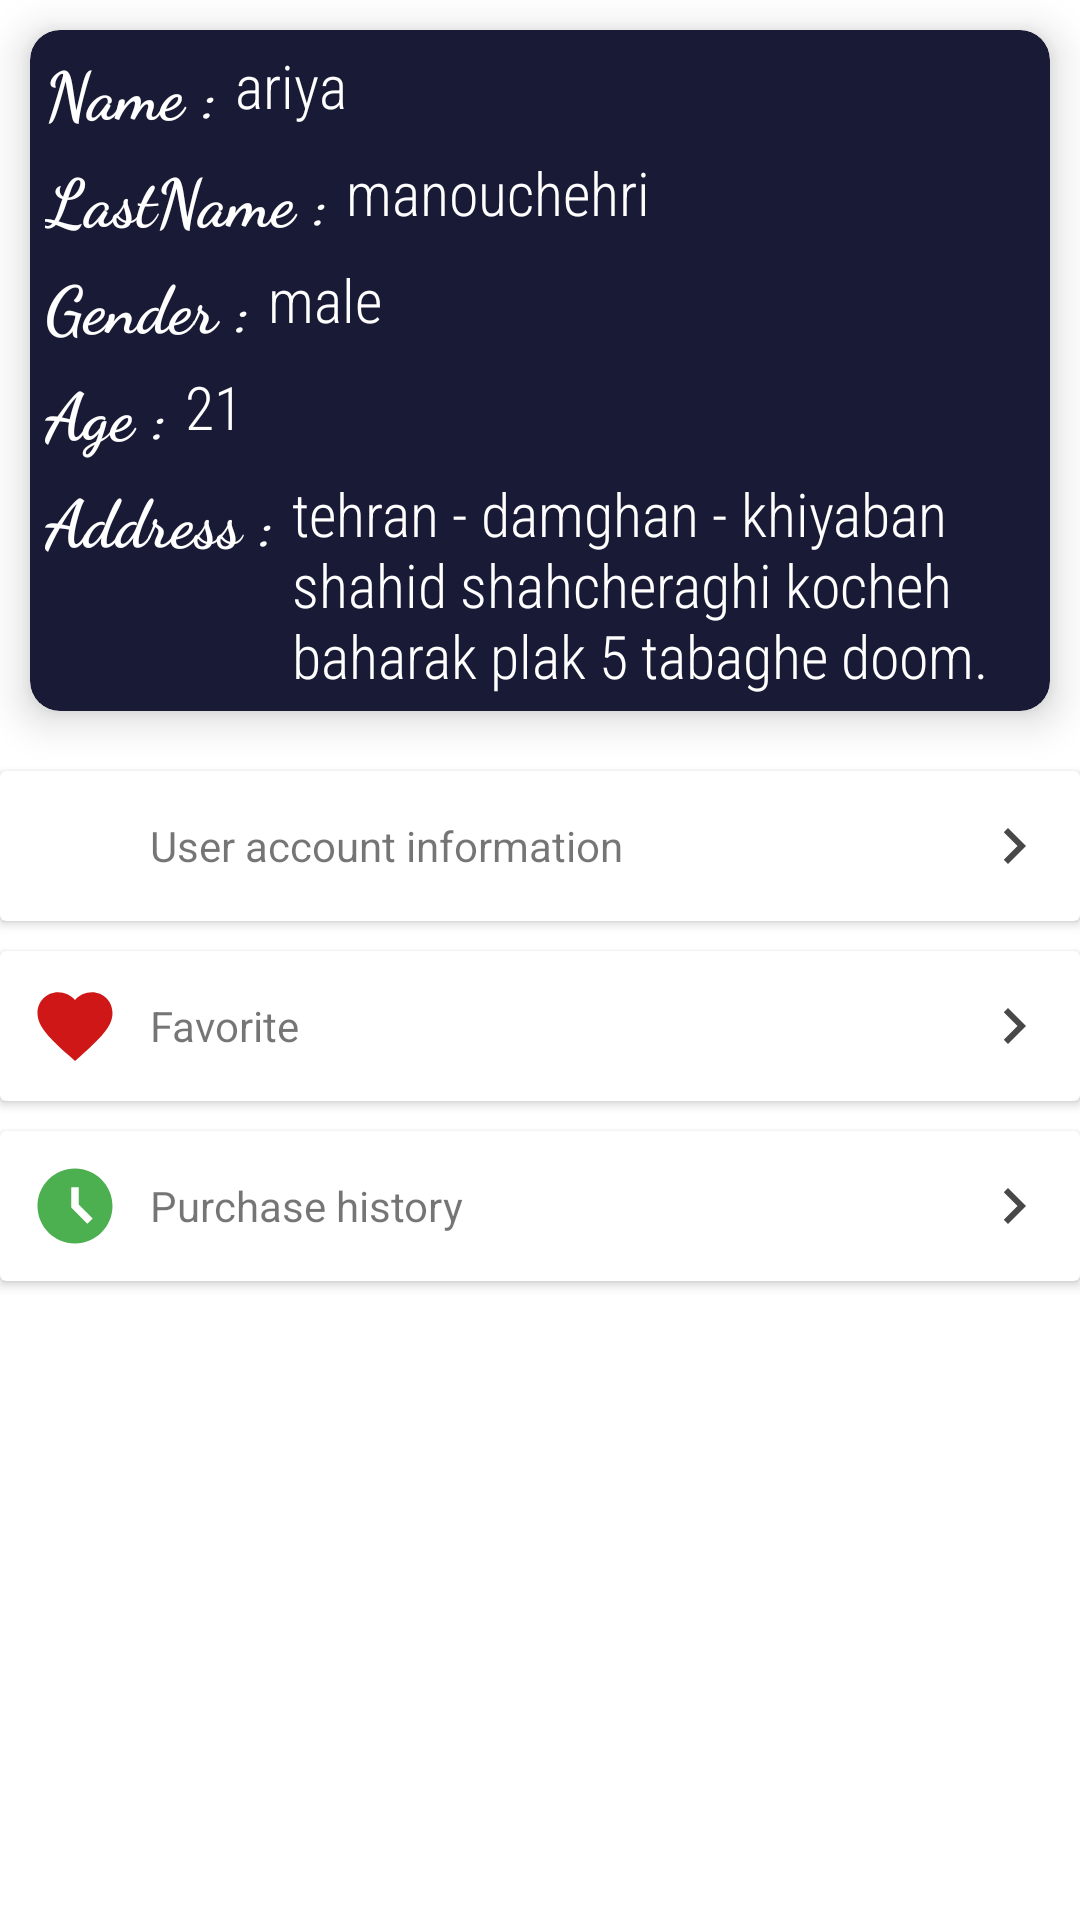

Where icons sit on this 1080w x 1920h app screen, as (x1, y1, x2, y2):
access time: (37, 1168, 113, 1244)
navigate next: (1004, 828, 1026, 864), (1004, 1008, 1026, 1044), (1004, 1188, 1026, 1224)
